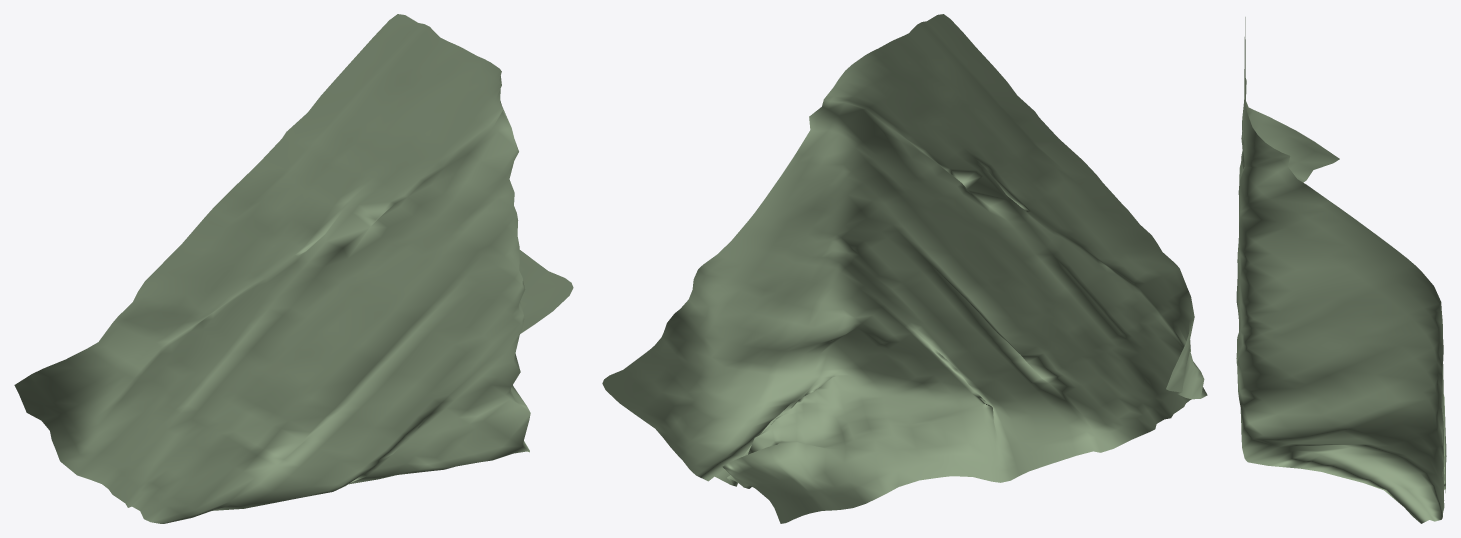
Rendered from BedsheetUnmade_26_2BedsheetUnmade_5_2.obj.
The picture shows the model from 3 angles, left to right: view 1: azimuth 30°, elevation 25°; view 2: azimuth 150°, elevation 25°; view 3: azimuth 270°, elevation 25°; orthographic projection. The views are drawn at different scales.
Parts seen in each view (by area): view 1: BedsheetUnmade_5; view 2: BedsheetUnmade_5; view 3: BedsheetUnmade_5.
Part boxes in pixels (x1=…): BedsheetUnmade_5: x1=14, y1=14, x2=573, y2=523; BedsheetUnmade_5: x1=602, y1=14, x2=1207, y2=523; BedsheetUnmade_5: x1=1236, y1=17, x2=1446, y2=523.
Size of the model in its own units: 1.69 by 1.42 by 0.5894.
